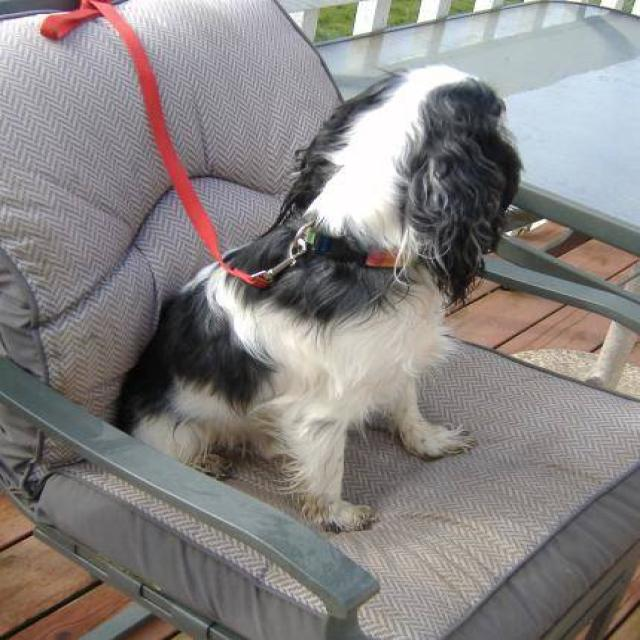dog: (110, 61, 523, 534)
